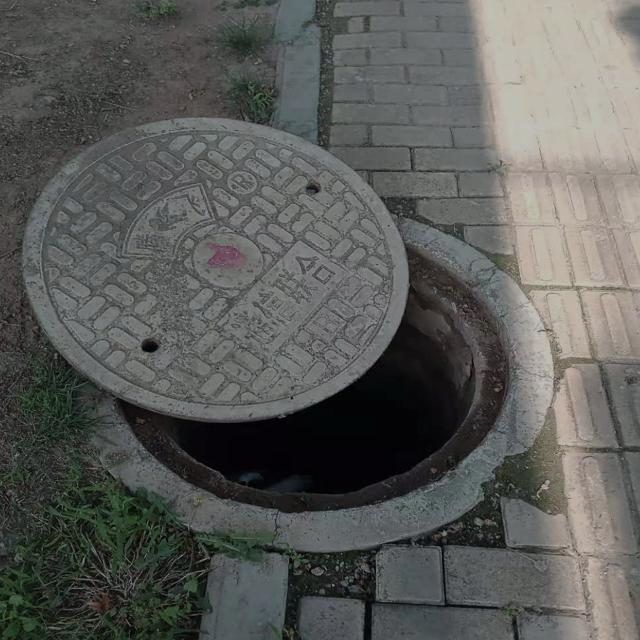uncovered: (22, 113, 552, 559)
